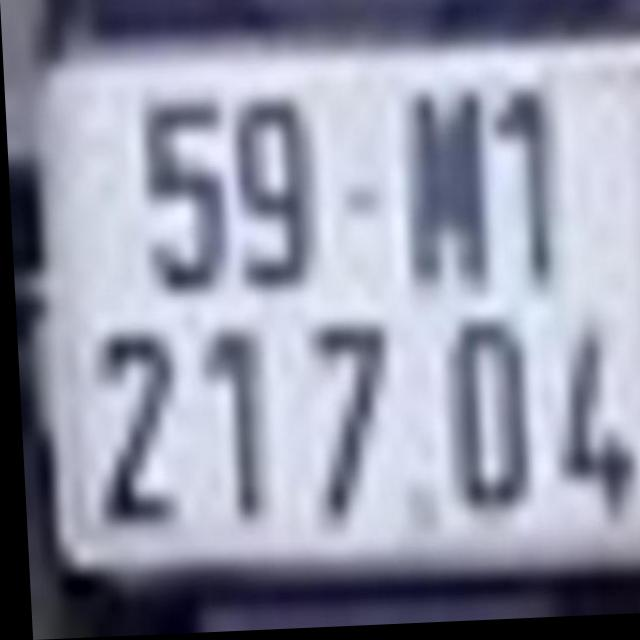0: (440, 320, 527, 521)
1: (504, 89, 568, 302), (201, 328, 269, 523)
2: (94, 328, 184, 522)
4: (551, 331, 634, 531)
5: (138, 87, 227, 295)
7: (293, 316, 394, 536)
9: (228, 88, 315, 296)
M: (395, 88, 505, 298)
